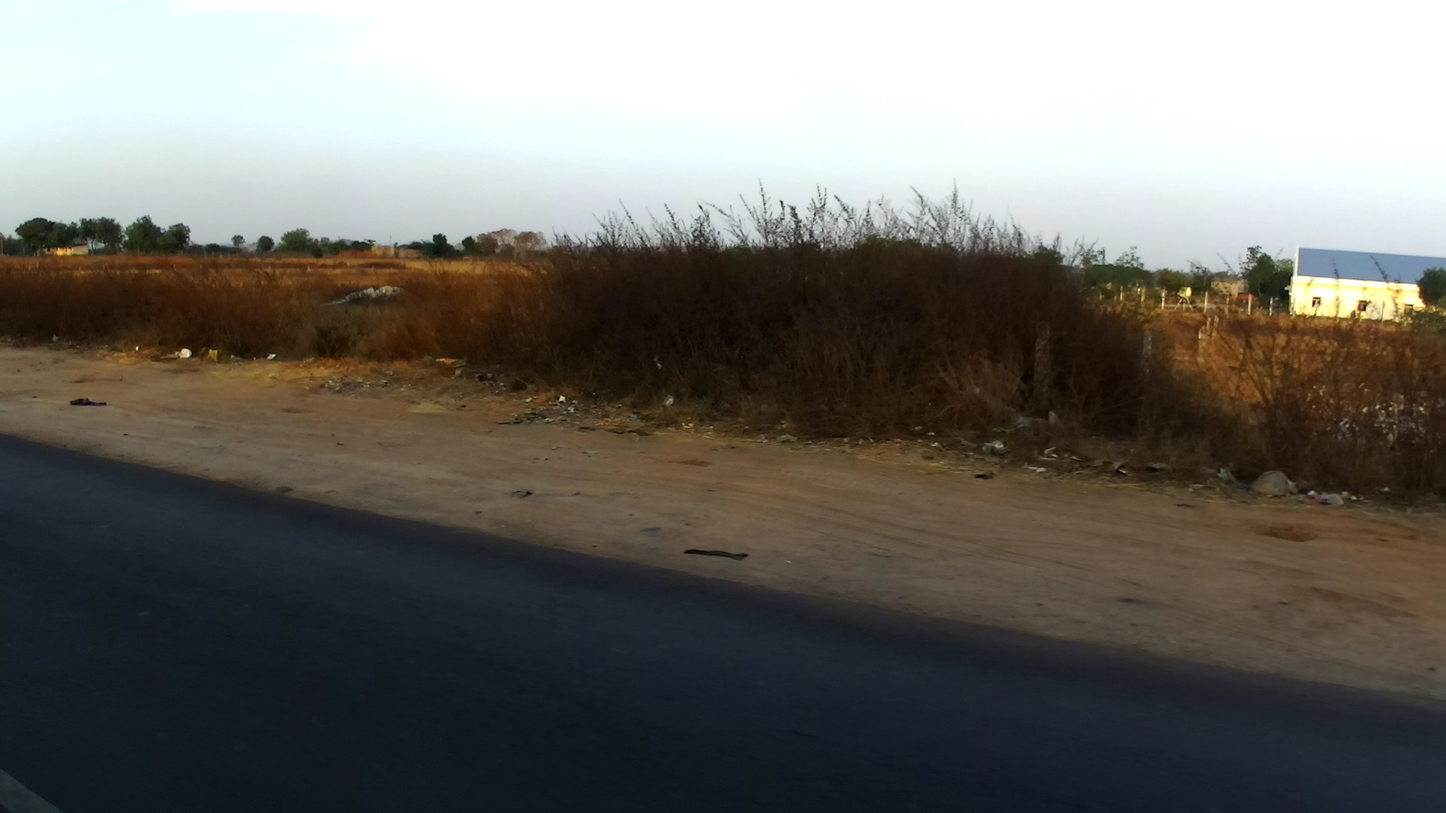vehicle fallback: (1237, 292, 1260, 312)
